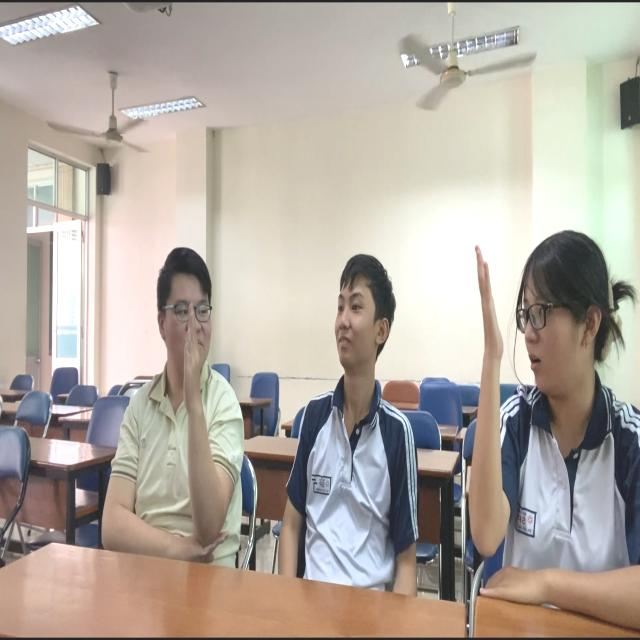raise_hand: (456, 180, 637, 640), (104, 227, 250, 590)
